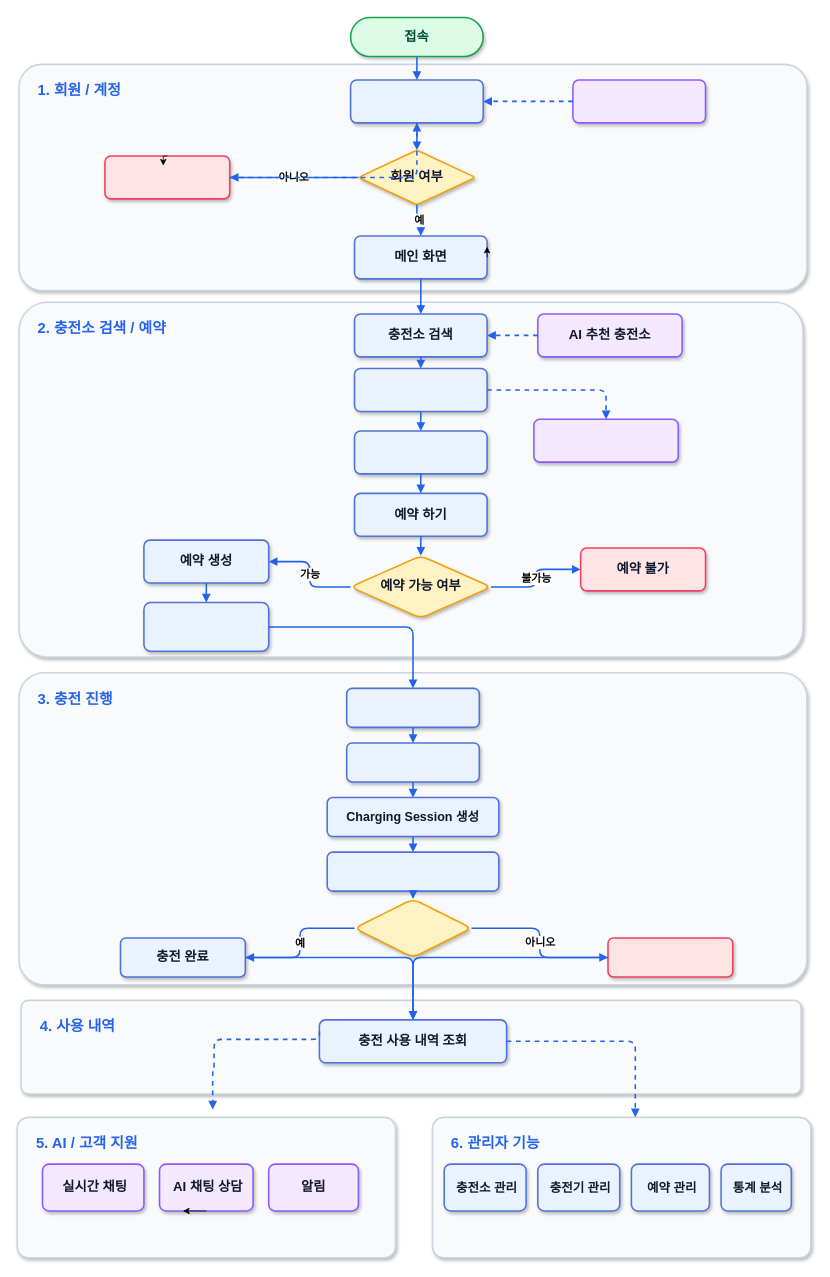
Image size: 830x1277. Some labels were removed from this diagram. Here are the shapes that lost their labels. From the top down, the centre of each, then its label:
At point 417,102: "로그인".
At point 640,102: "소셜 로그인".
At point 168,178: "회원가입".
At point 421,390: "충전소 선택".
At point 421,453: "충전기 선택".
At point 606,441: "즐겨찾기 등록".
At point 207,627: "예약 완료".
At point 413,708: "사용자 도착".
At point 413,763: "충전 시작".
At point 413,872: "실시간 충전 상태 확인".
At point 413,929: "충전 완료?".
At point 671,958: "충전 중단".
